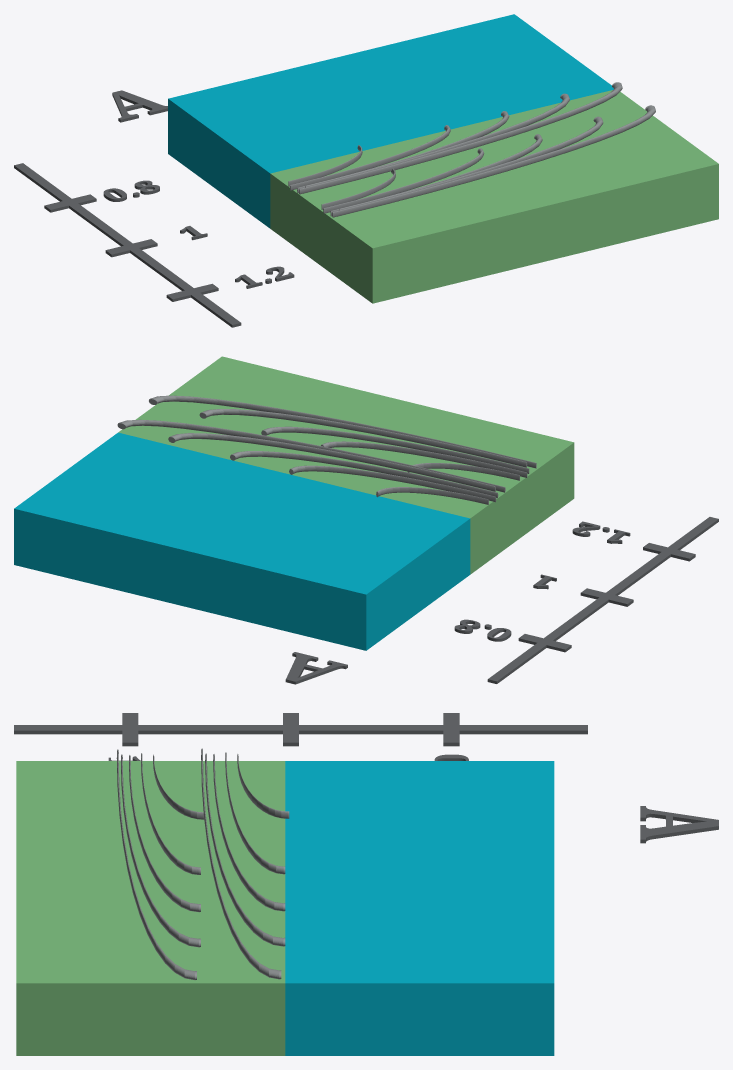
Rendered from kyousitu.glb.
3 renders of one model, top to bottom at view 1: azimuth 30°, elevation 25°; view 2: azimuth 150°, elevation 25°; view 3: azimuth 270°, elevation 25°, orthographic. The views are drawn at different scales.
Parts seen in each view (by area): view 1: Mesh_Mesh_head_geo.001_lambert2SG.001; view 2: Mesh_Mesh_head_geo.001_lambert2SG.001; view 3: Mesh_Mesh_head_geo.001_lambert2SG.001.
Boxes of the visible parts, x1=… form: Mesh_Mesh_head_geo.001_lambert2SG.001: x1=14, y1=14, x2=718, y2=327; Mesh_Mesh_head_geo.001_lambert2SG.001: x1=14, y1=356, x2=718, y2=684; Mesh_Mesh_head_geo.001_lambert2SG.001: x1=14, y1=713, x2=718, y2=1055.
Size of the model in its own units: 0.1929 by 0.023 by 0.1756.
